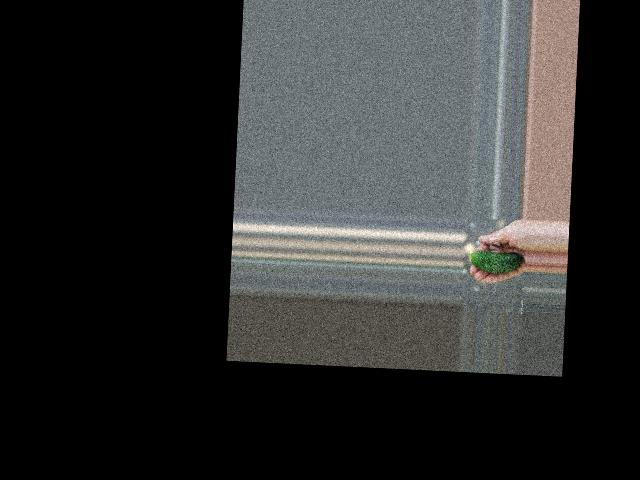cucumber: (470, 250, 523, 275)
